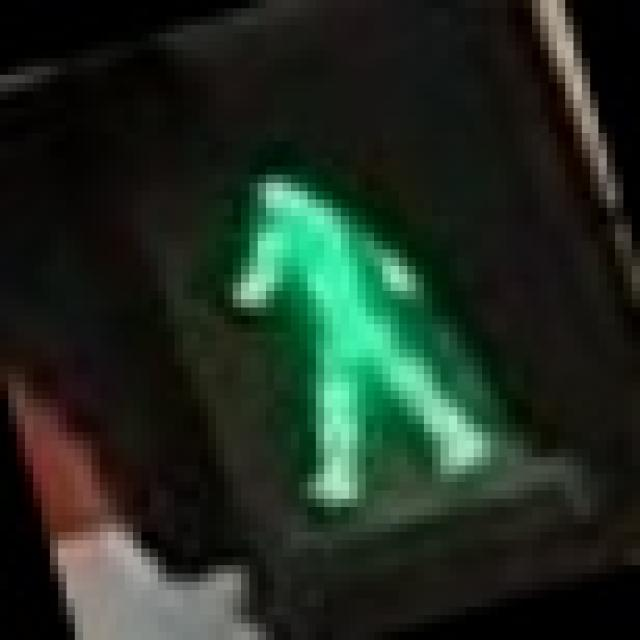geen-crossing: (108, 58, 516, 557)
